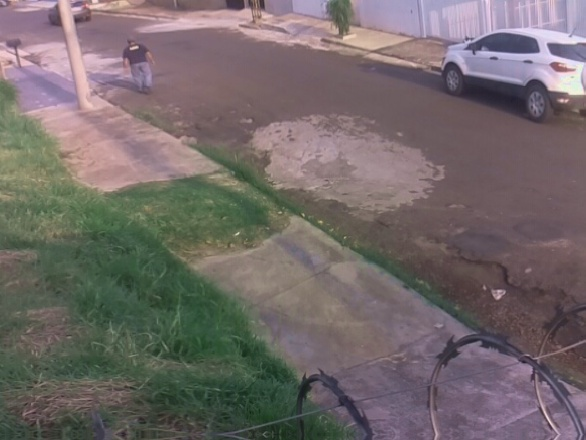person: (122, 36, 157, 96)
